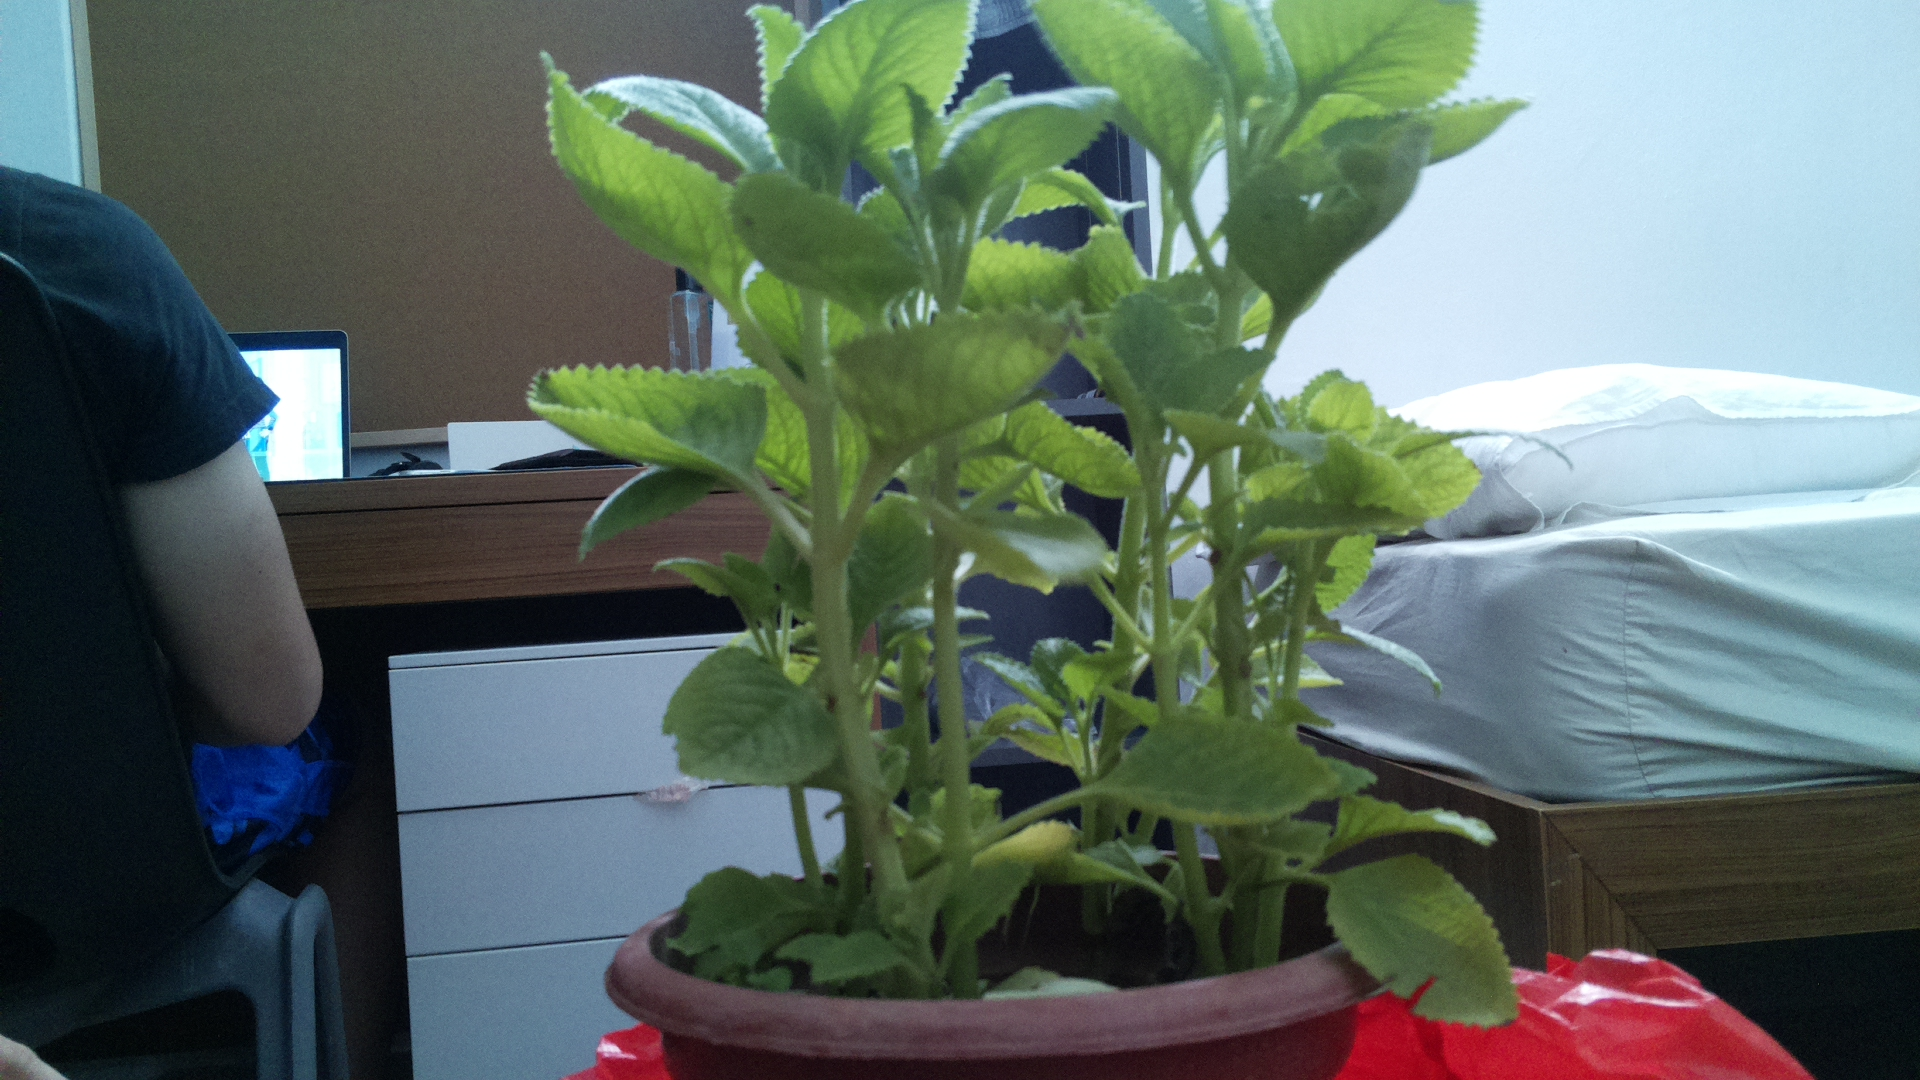leaf: (520, 51, 769, 318), (1224, 99, 1444, 307), (1309, 855, 1524, 1040), (1036, 5, 1236, 206), (770, 1, 978, 187), (831, 301, 1073, 459), (531, 349, 767, 502), (725, 160, 924, 323), (1091, 713, 1373, 822), (659, 642, 848, 796), (1273, 1, 1485, 113), (1017, 397, 1153, 498), (1247, 493, 1428, 554), (852, 501, 936, 599), (1174, 411, 1332, 462)
